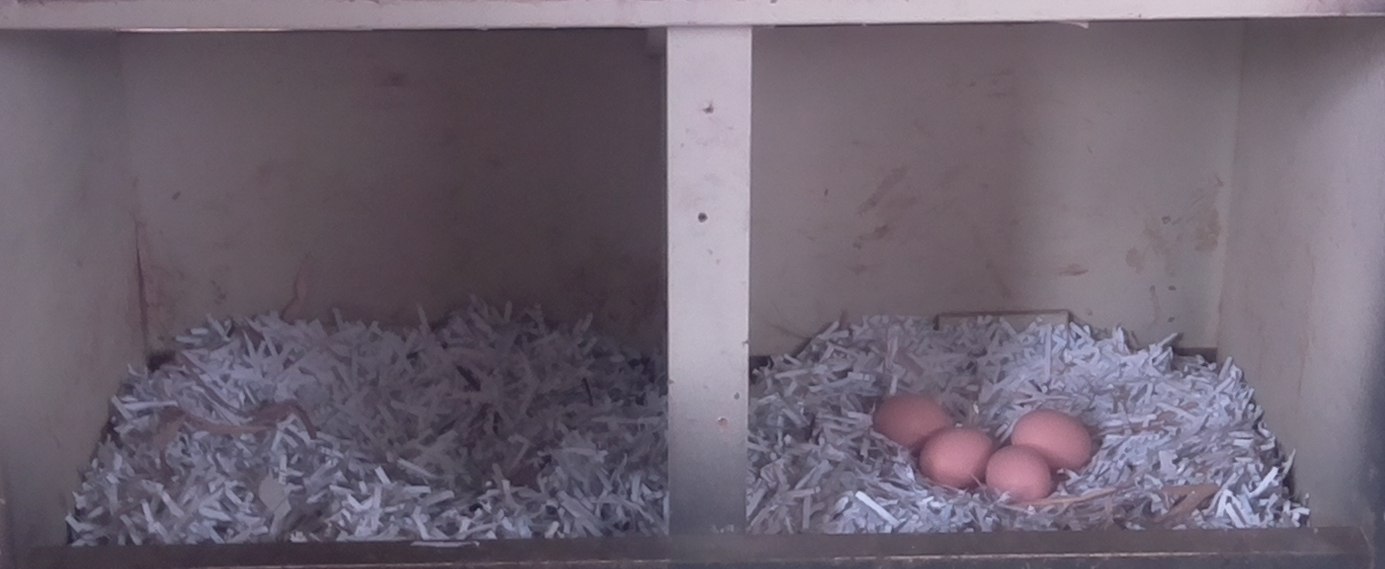Egg: (1015, 409, 1094, 466), (870, 393, 943, 452), (987, 444, 1053, 504), (923, 429, 993, 484)
